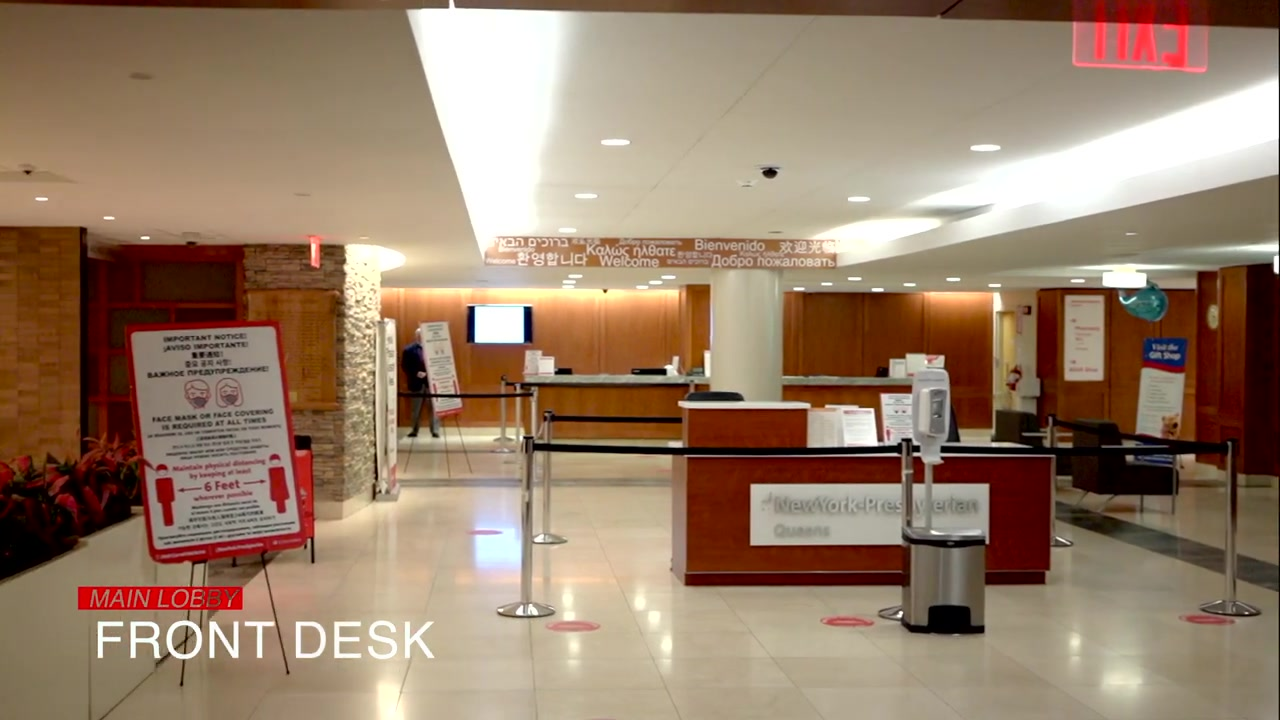counter: (667, 403, 1051, 579), (523, 369, 705, 437), (784, 372, 912, 436)
dispenser: (919, 383, 949, 468)
person: (401, 328, 441, 438)
sofa: (1072, 418, 1180, 516), (990, 408, 1073, 477)
waste_bin: (902, 526, 986, 634)
